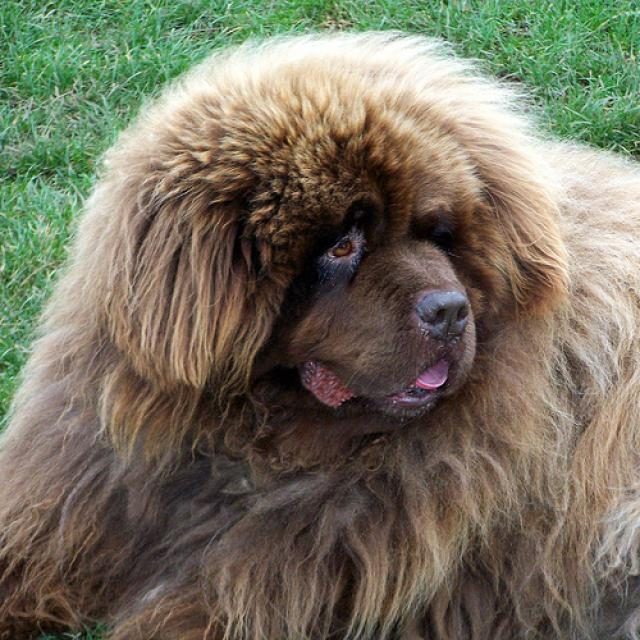dog-newfoundland: (1, 28, 637, 637)
